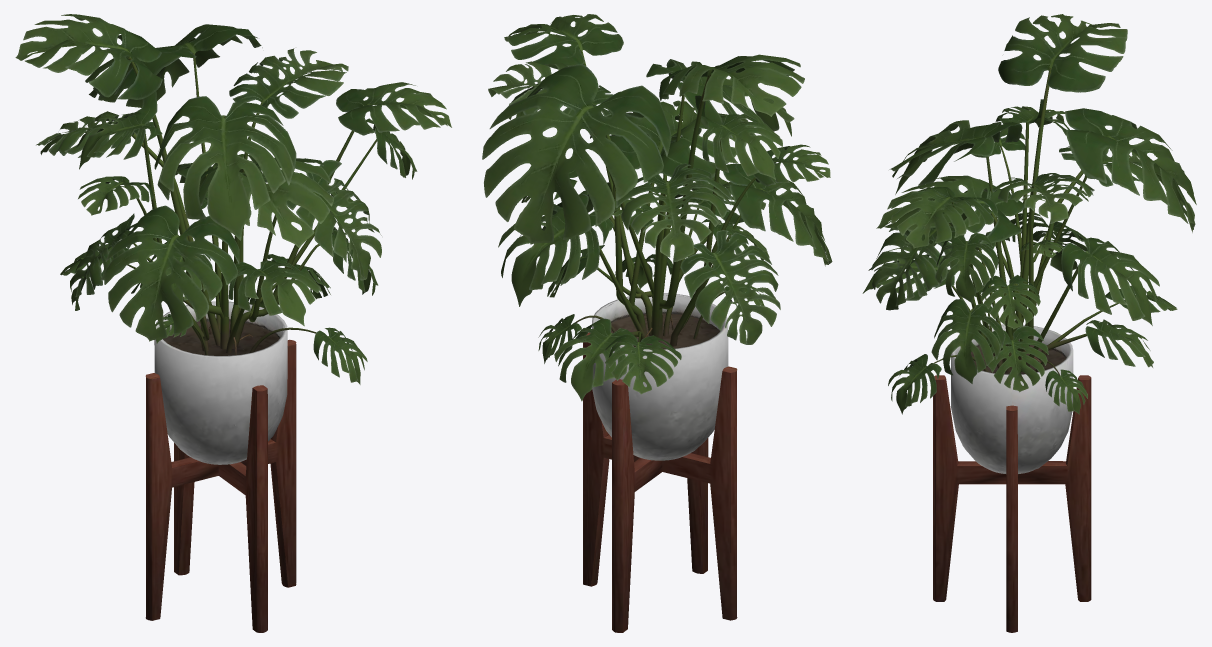
Rendered from monstera.glb.
3 views of the same model, side by side, from view 1: azimuth 30°, elevation 25°; view 2: azimuth 150°, elevation 25°; view 3: azimuth 270°, elevation 25° (orthographic). The views are drawn at different scales.
Visible parts, largest first — view 1: Leaves_Mat.1_0, Stand_Mat_0, Pot_LP_Mat_0, root_HP_1_Mat.2_0; view 2: Leaves_Mat.1_0, Stand_Mat_0, Pot_LP_Mat_0, root_HP_1_Mat.2_0; view 3: Leaves_Mat.1_0, Stand_Mat_0, Pot_LP_Mat_0, root_HP_1_Mat.2_0.
Part boxes in pixels (left/top/right/bottom): Leaves_Mat.1_0: left=15, top=14, right=451, bottom=384; Stand_Mat_0: left=145, top=339, right=296, bottom=632; Pot_LP_Mat_0: left=154, top=301, right=287, bottom=464; root_HP_1_Mat.2_0: left=124, top=53, right=376, bottom=355; Leaves_Mat.1_0: left=482, top=14, right=832, bottom=401; Stand_Mat_0: left=583, top=332, right=737, bottom=632; Pot_LP_Mat_0: left=592, top=293, right=728, bottom=460; root_HP_1_Mat.2_0: left=575, top=50, right=756, bottom=346; Leaves_Mat.1_0: left=862, top=14, right=1196, bottom=414; Stand_Mat_0: left=933, top=375, right=1091, bottom=632; Pot_LP_Mat_0: left=951, top=324, right=1073, bottom=473; root_HP_1_Mat.2_0: left=933, top=68, right=1124, bottom=375.
Size of the model in its own units: 0.9585 by 1.5 by 0.8721.
3 materials, 3 textured.
